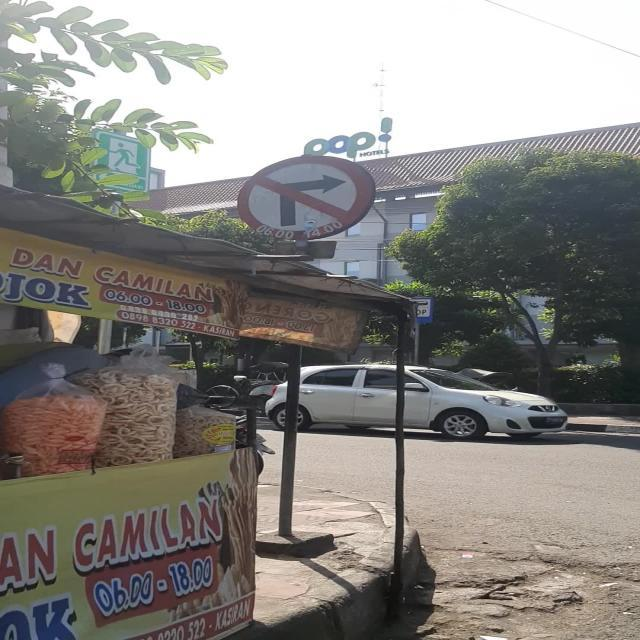Dilarang Belok Kanan: (237, 155, 375, 239)
